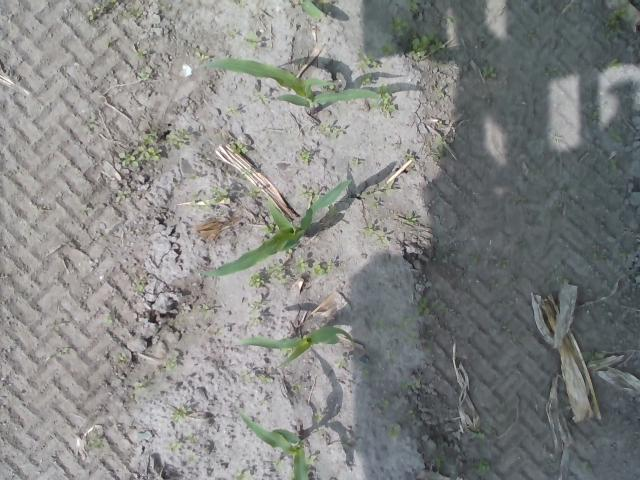Maize: (200, 179, 352, 278), (208, 57, 380, 116), (234, 407, 310, 480), (235, 324, 354, 368), (296, 0, 322, 20)
Weeds: (382, 14, 453, 66), (118, 128, 193, 174), (249, 258, 333, 288), (168, 433, 202, 464), (375, 84, 400, 118), (412, 296, 449, 316), (88, 0, 118, 23), (606, 9, 628, 40), (248, 295, 272, 322), (360, 54, 380, 84), (360, 226, 389, 246), (432, 239, 451, 266), (204, 187, 229, 205), (316, 122, 342, 138), (553, 270, 578, 286), (432, 143, 449, 163), (470, 425, 490, 442), (299, 185, 319, 202), (360, 192, 380, 208), (584, 350, 605, 364), (476, 461, 494, 477), (386, 422, 402, 440), (464, 254, 481, 270), (399, 381, 416, 396), (479, 65, 496, 80), (170, 407, 188, 421), (607, 56, 624, 70), (501, 321, 514, 338), (192, 48, 210, 60), (230, 142, 248, 154), (592, 251, 608, 264), (247, 34, 260, 50), (234, 469, 252, 480), (360, 367, 374, 381), (400, 317, 415, 330), (132, 278, 144, 293), (86, 438, 104, 448), (334, 358, 349, 370), (610, 130, 624, 142), (404, 408, 418, 420), (112, 352, 126, 364), (402, 150, 417, 161), (224, 104, 240, 114), (115, 190, 128, 202), (372, 318, 385, 330), (134, 380, 147, 392), (382, 183, 396, 194), (432, 454, 446, 465), (609, 159, 620, 173), (590, 107, 601, 121), (198, 302, 210, 314), (272, 459, 284, 471), (406, 0, 418, 12), (379, 398, 392, 409), (130, 6, 142, 17), (299, 150, 310, 162), (164, 358, 177, 368), (248, 186, 260, 196), (305, 454, 314, 466), (229, 0, 246, 6), (406, 214, 416, 224), (260, 376, 272, 384), (140, 73, 150, 82), (90, 118, 98, 129), (226, 31, 237, 39), (137, 48, 145, 58), (350, 160, 360, 168), (312, 412, 322, 420), (242, 169, 248, 173)
